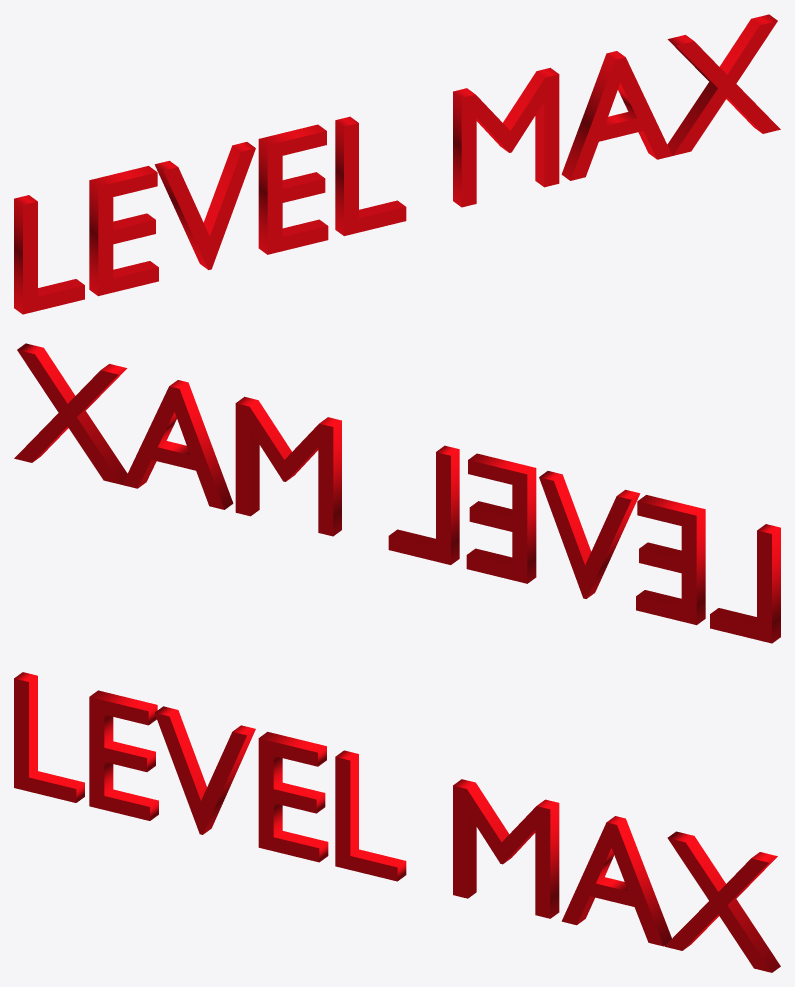
The model's file is LevelMax.obj.
3 renders of one model, top to bottom at view 1: azimuth 30°, elevation 25°; view 2: azimuth 150°, elevation 25°; view 3: azimuth 330°, elevation 25°, orthographic.
Visible parts, largest first — view 1: テキスト.001; view 2: テキスト.001; view 3: テキスト.001.
Boxes of the visible parts, x1,y1,x2,y2 form: テキスト.001: (14,14,780,314); テキスト.001: (14,343,780,643); テキスト.001: (14,672,780,972).
Size of the model in its own units: 4.94 by 0.692 by 0.1.
Materials: 1 (1 with a texture image).
